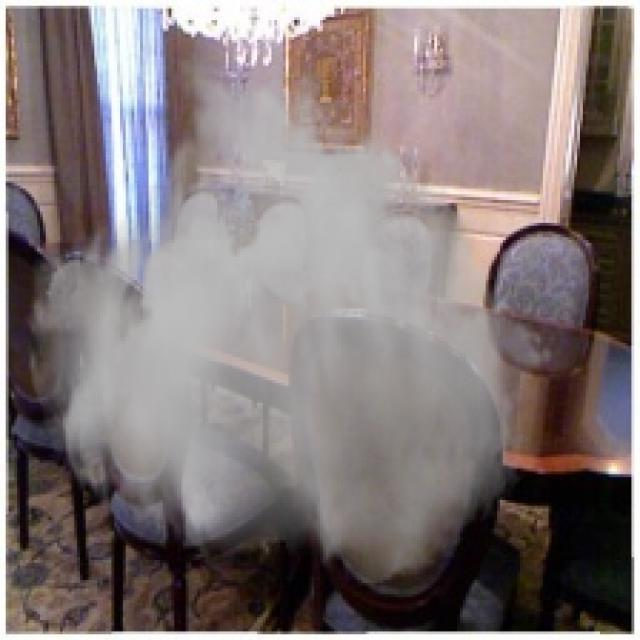Smoke: (22, 49, 554, 588)
